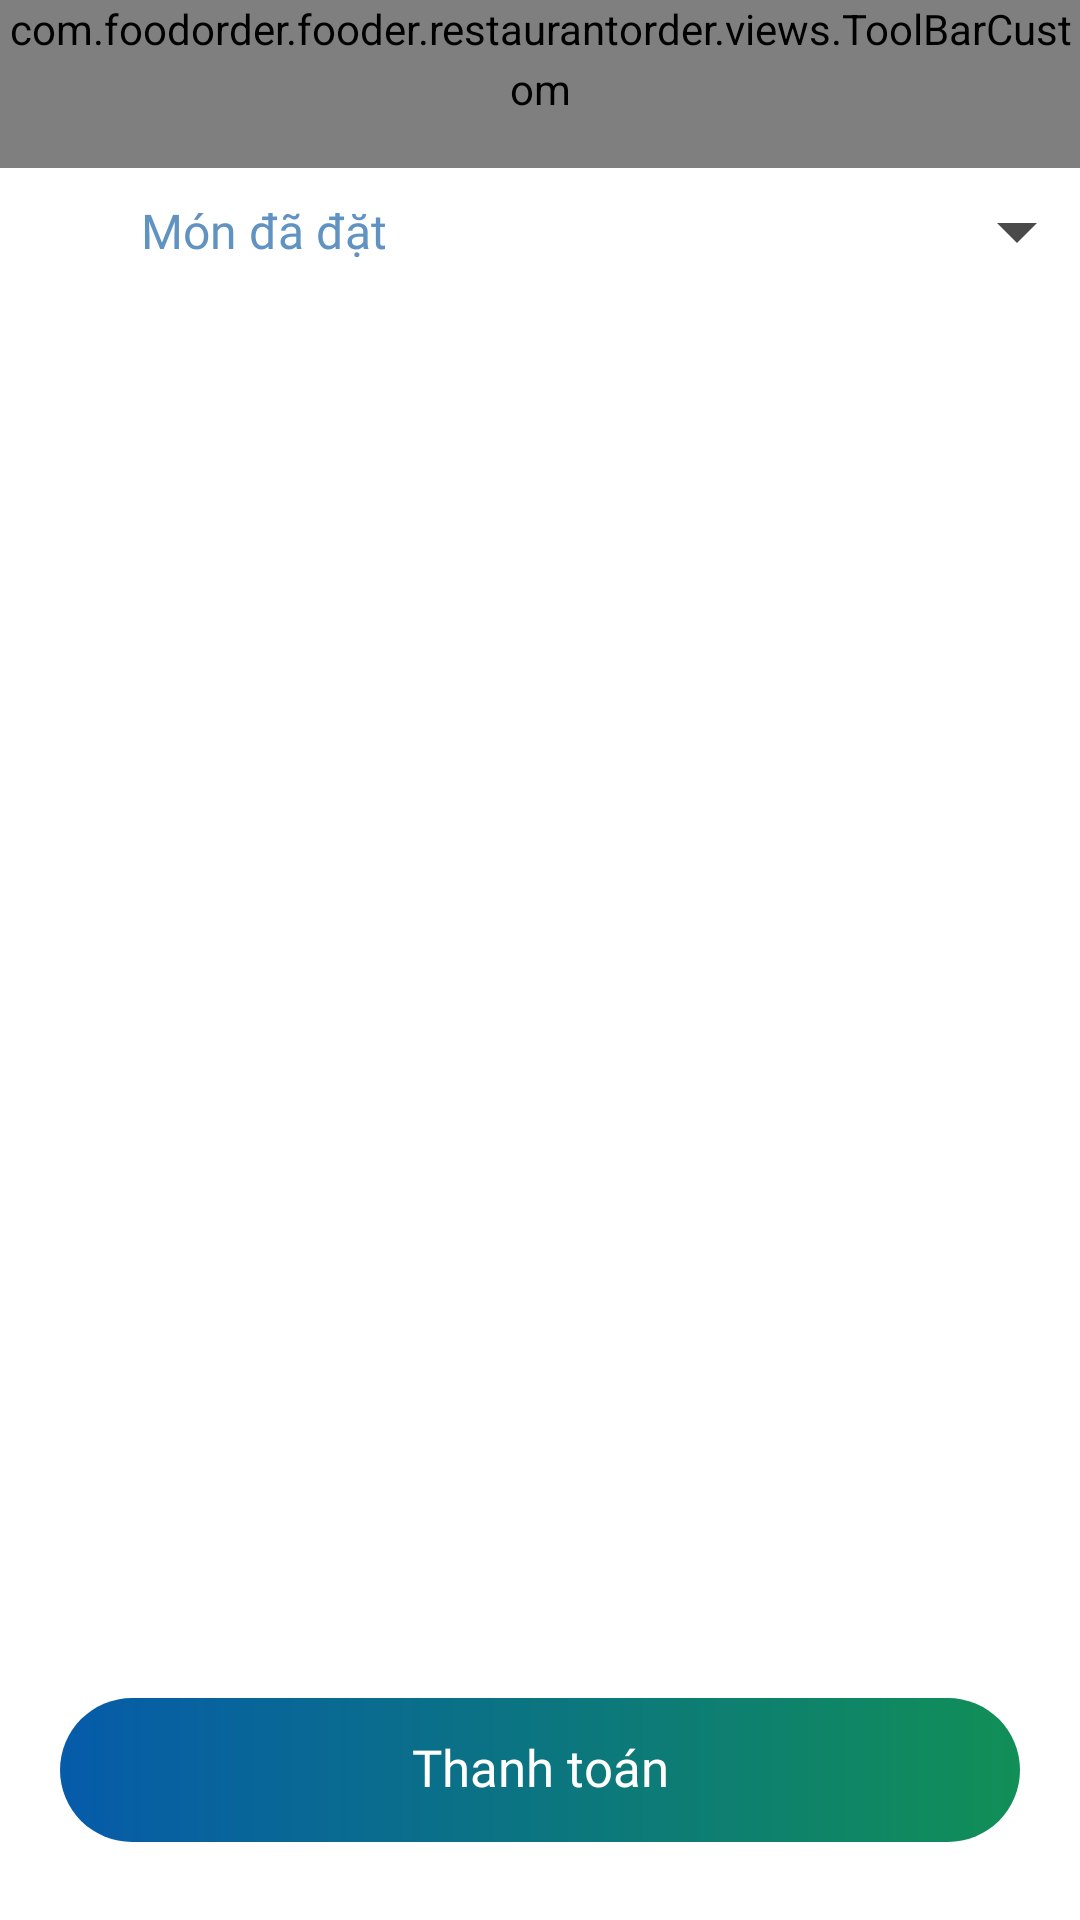

Icon bounding boxes for this 1080px×1920px phone screenshot, format (x1, y1, x2, y2):
arrow drop down: (997, 223, 1037, 243)
